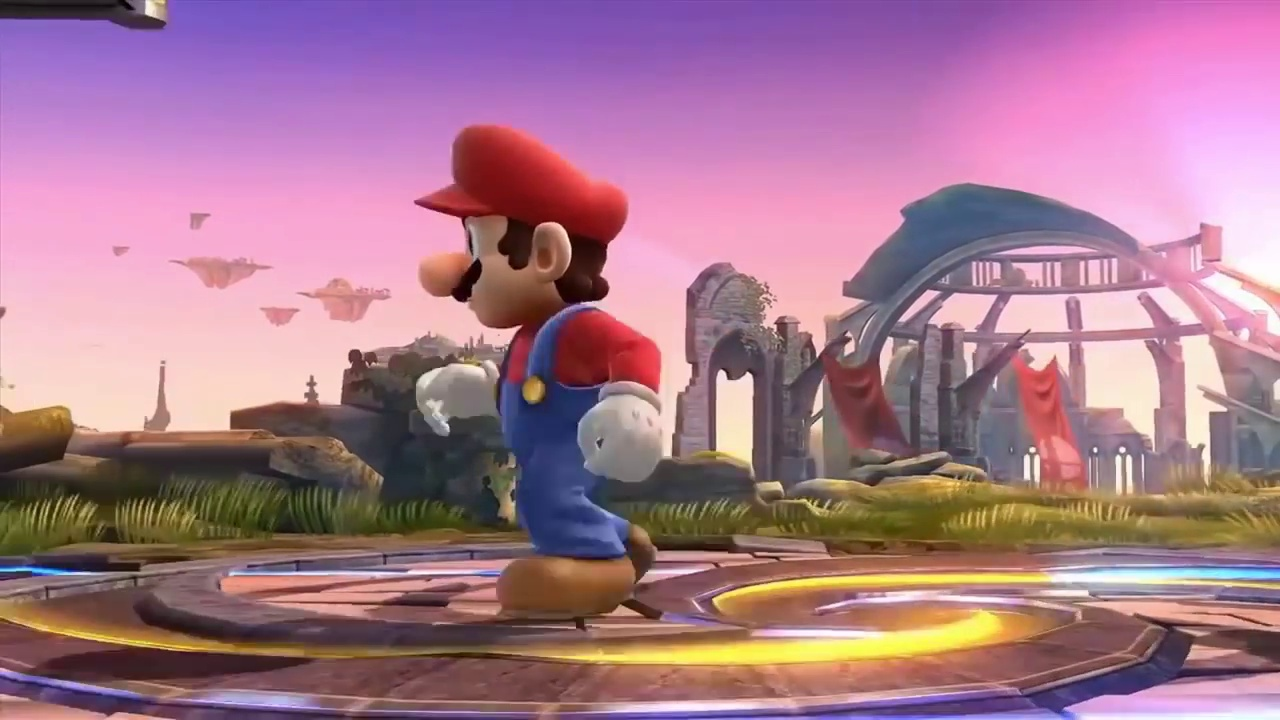Mario: (414, 124, 663, 618)
